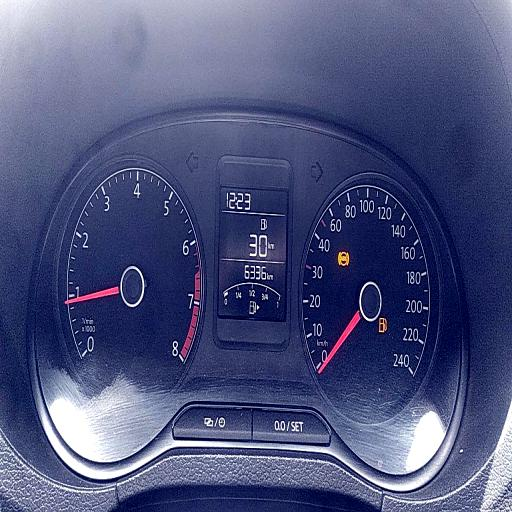tachometer: (52, 154, 206, 394)
